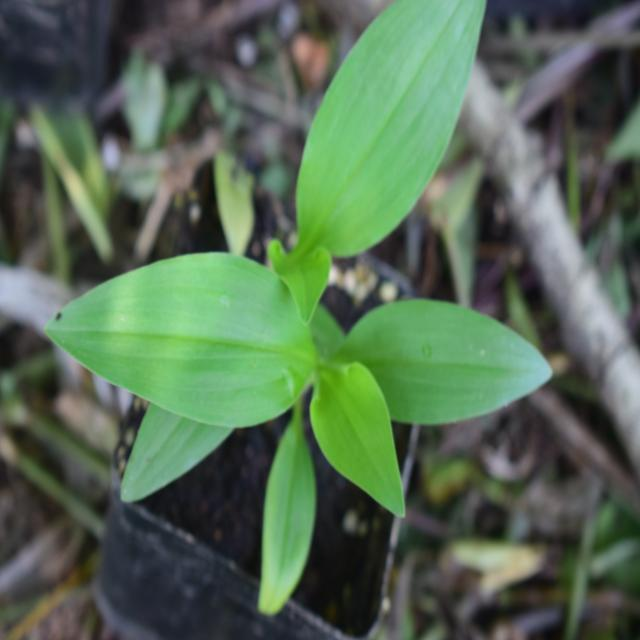Common Dayflower: (56, 233, 524, 562), (272, 0, 503, 239)
